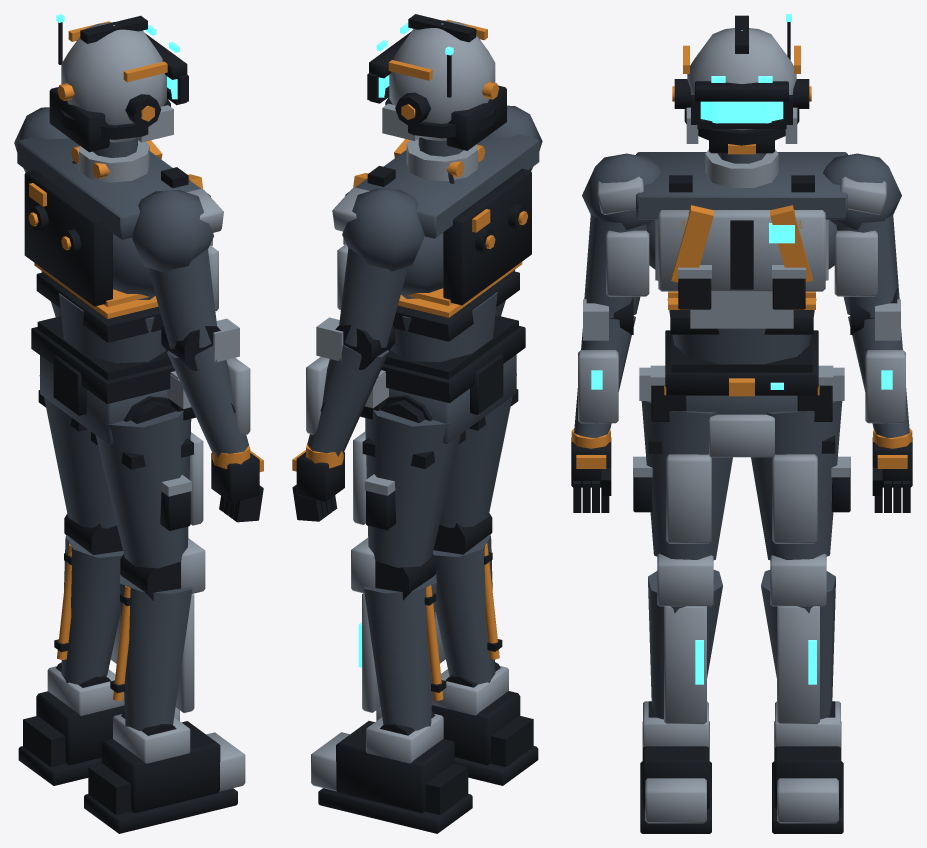
File: soldado_base.glb
3 renders of one model, left to right at view 1: azimuth 30°, elevation 25°; view 2: azimuth 150°, elevation 25°; view 3: azimuth 270°, elevation 25°, orthographic.
Visible parts, largest first — view 1: mov_pierna_der, mov_torso, mov_pierna_izq, mov_brazo_der, mov_cabeza, pelvis, mov_brazo_izq; view 2: mov_pierna_izq, mov_torso, mov_pierna_der, mov_brazo_izq, mov_cabeza, pelvis, mov_brazo_der; view 3: mov_torso, mov_pierna_der, mov_pierna_izq, mov_brazo_der, mov_brazo_izq, mov_cabeza, pelvis.
Boxes of the visible parts, x1,y1,x2,y2 form: mov_pierna_der: (84,396,245,833); mov_torso: (17,136,212,380); mov_pierna_izq: (18,375,179,785); mov_brazo_der: (131,188,263,522); mov_cabeza: (49,14,188,157); pelvis: (31,327,196,444); mov_brazo_izq: (14,107,69,317); mov_pierna_izq: (311,395,472,833); mov_torso: (343,134,539,379); mov_pierna_der: (376,374,538,785); mov_brazo_izq: (292,187,424,521); mov_cabeza: (367,14,506,156); pelvis: (360,326,525,444); mov_brazo_der: (487,105,542,316); mov_torso: (636,149,847,372); mov_pierna_der: (633,401,732,833); mov_pierna_izq: (751,401,850,833); mov_brazo_der: (571,153,660,512); mov_brazo_izq: (823,153,912,512); mov_cabeza: (672,14,811,163); pelvis: (639,330,844,457).
Size of the model in its own units: 0.372 by 1.8 by 0.725.
